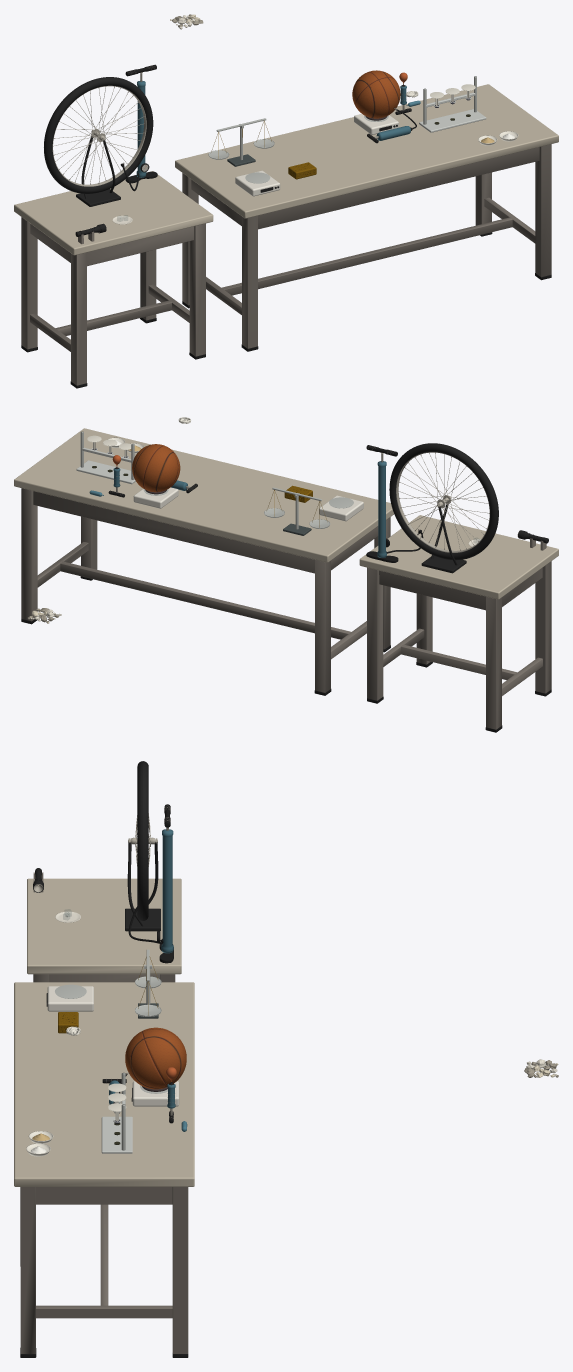
File: states-of-matter.glb
The picture shows the model from 3 angles, top to bottom: view 1: azimuth 30°, elevation 25°; view 2: azimuth 150°, elevation 25°; view 3: azimuth 270°, elevation 25°; orthographic projection. The views are drawn at different scales.
Parts seen in each view (by area): view 1: bench, side-table, bicycle-wheel, basketball, syringe-rack, floor-pump, balance-a, balance-b, beam-balance; view 2: bench, side-table, bicycle-wheel, basketball, floor-pump, syringe-rack, balance-a, balance-b, beam-balance; view 3: bench, side-table, bicycle-wheel, basketball, floor-pump, syringe-rack, balance-a, balance-b, beam-balance.
Part boxes in pixels (x1,y1,x2,y2): bench: (175, 84, 558, 351); side-table: (14, 171, 213, 388); bicycle-wheel: (44, 77, 153, 206); basketball: (352, 70, 400, 118); syringe-rack: (419, 76, 486, 132); floor-pump: (120, 64, 157, 191); balance-a: (235, 170, 280, 196); balance-b: (354, 114, 398, 134); beam-balance: (208, 118, 274, 159); bench: (14, 428, 393, 695); side-table: (359, 515, 558, 732); bicycle-wheel: (389, 443, 498, 573); basketball: (132, 444, 180, 492); floor-pump: (366, 445, 423, 562); syringe-rack: (76, 431, 135, 484); balance-a: (319, 495, 363, 521); balance-b: (133, 487, 178, 508); beam-balance: (264, 487, 330, 528); bench: (14, 982, 194, 1357); side-table: (27, 878, 181, 982); bicycle-wheel: (125, 761, 160, 931); basketball: (125, 1027, 186, 1089); floor-pump: (128, 804, 173, 963); syringe-rack: (101, 1072, 132, 1153); balance-a: (46, 984, 93, 1011); balance-b: (131, 1081, 179, 1106); beam-balance: (135, 949, 161, 1016).
Bounding box in the file's own units: 2.75 × 1.44 × 2.11.
Materials: 10 (1 with a texture image).
